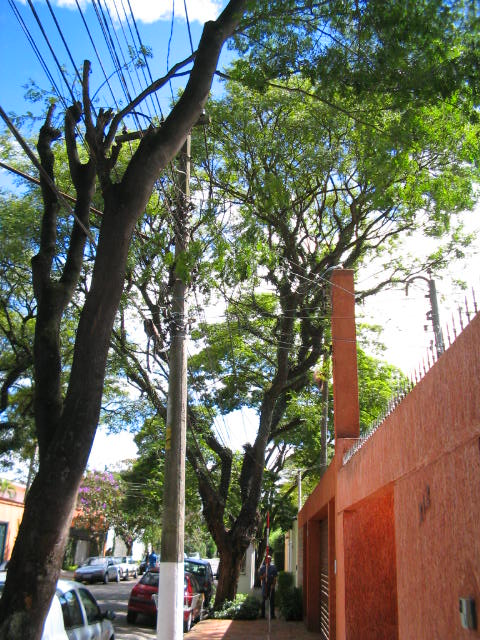stem: (199, 541, 260, 617)
stick: (260, 508, 275, 618)
tree: (1, 1, 480, 620)
